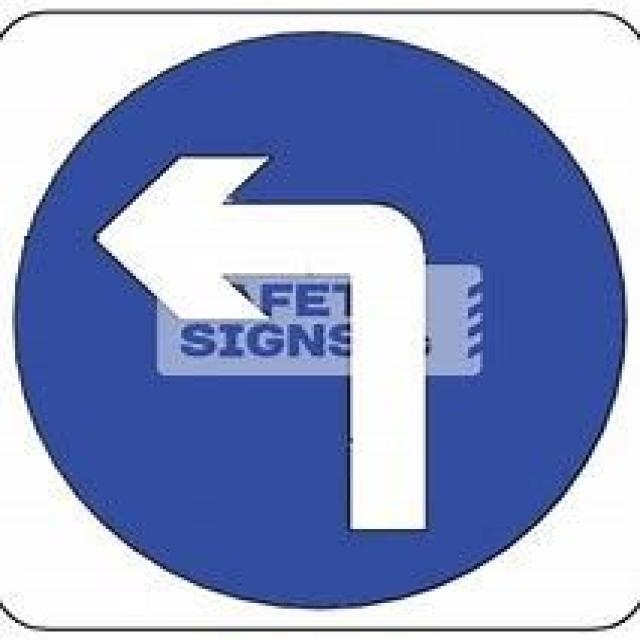compulsary turn left ahead: (9, 30, 629, 607)
